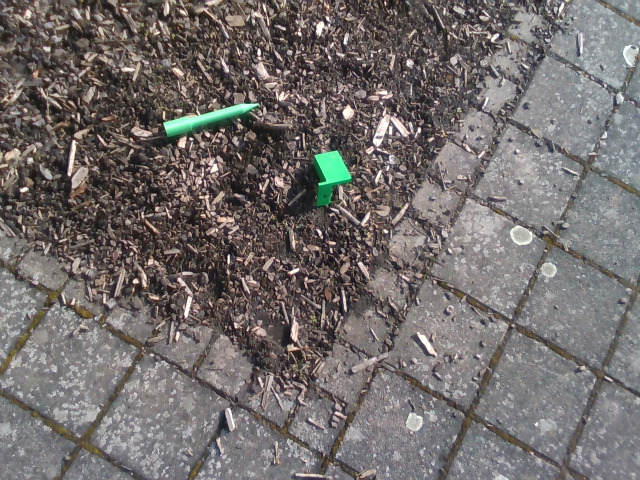Probe: (159, 97, 262, 143)
